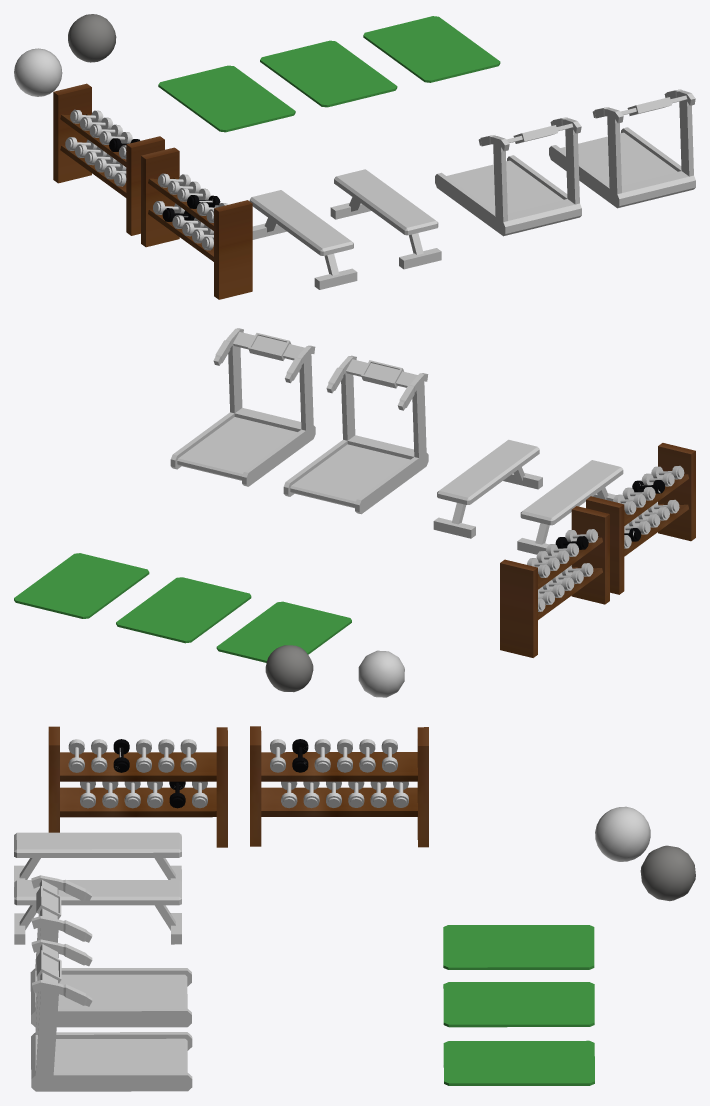
The model's file is gymElementos.obj.
The picture shows the model from 3 angles, top to bottom: view 1: azimuth 30°, elevation 25°; view 2: azimuth 150°, elevation 25°; view 3: azimuth 270°, elevation 25°; orthographic projection. The views are drawn at different scales.
Parts seen in each view (by area): view 1: GYM, GymDisp; view 2: GYM, GymDisp; view 3: GYM, GymDisp.
Part boxes in pixels (<box>): GYM: <box>14,14,695,299</box>; GymDisp: <box>66,112,677,255</box>; GYM: <box>14,328,695,697</box>; GymDisp: <box>177,417,671,609</box>; GYM: <box>14,726,695,1091</box>; GymDisp: <box>14,746,391,1072</box>.
Size of the model in its own units: 6.36 by 1.27 by 6.94.
